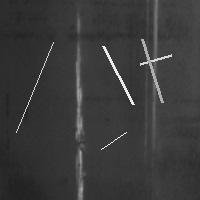scratches: (11, 37, 58, 137), (69, 13, 85, 197), (98, 41, 138, 109), (142, 1, 159, 154), (137, 34, 167, 107), (96, 127, 131, 154), (135, 50, 176, 69)
